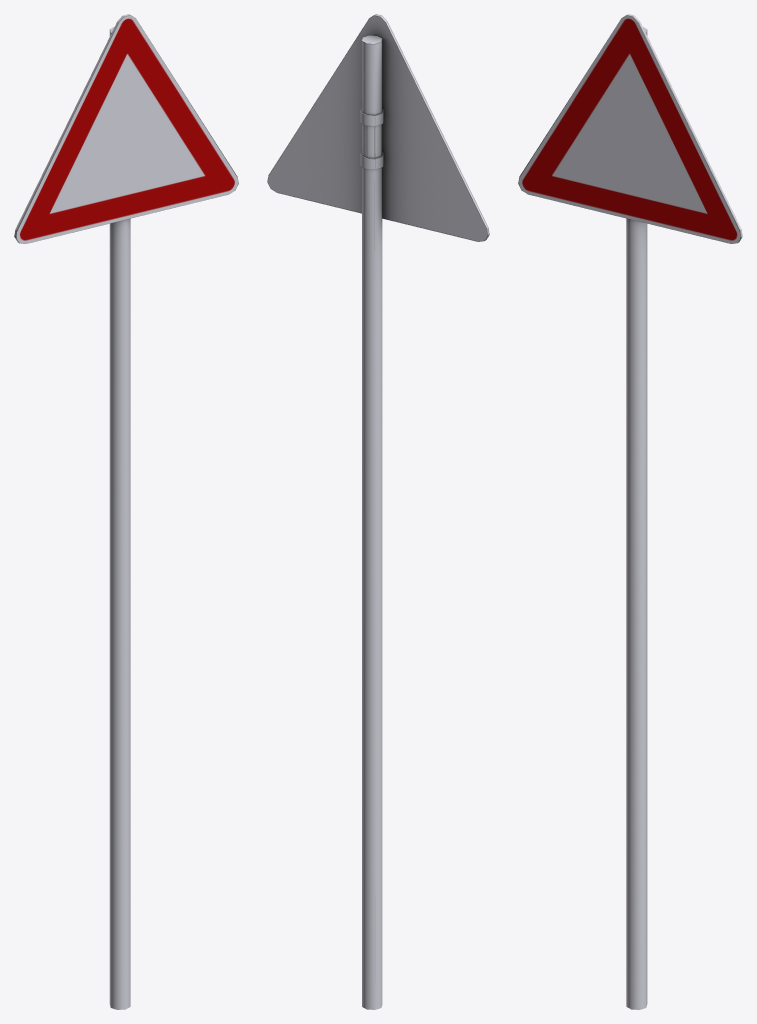
Rendered from sign#4.FBX.
3 views of the same model, side by side, from view 1: azimuth 30°, elevation 25°; view 2: azimuth 150°, elevation 25°; view 3: azimuth 330°, elevation 25° (orthographic).
Visible parts, largest first — view 1: Cylinder001; view 2: Cylinder001; view 3: Cylinder001.
Part boxes in pixels (x1,y1,x2,y2): Cylinder001: [14, 14, 238, 1009]; Cylinder001: [267, 14, 489, 1009]; Cylinder001: [518, 14, 742, 1009].
Bounding box in the file's own units: 18.84 × 80.34 × 1.97.
